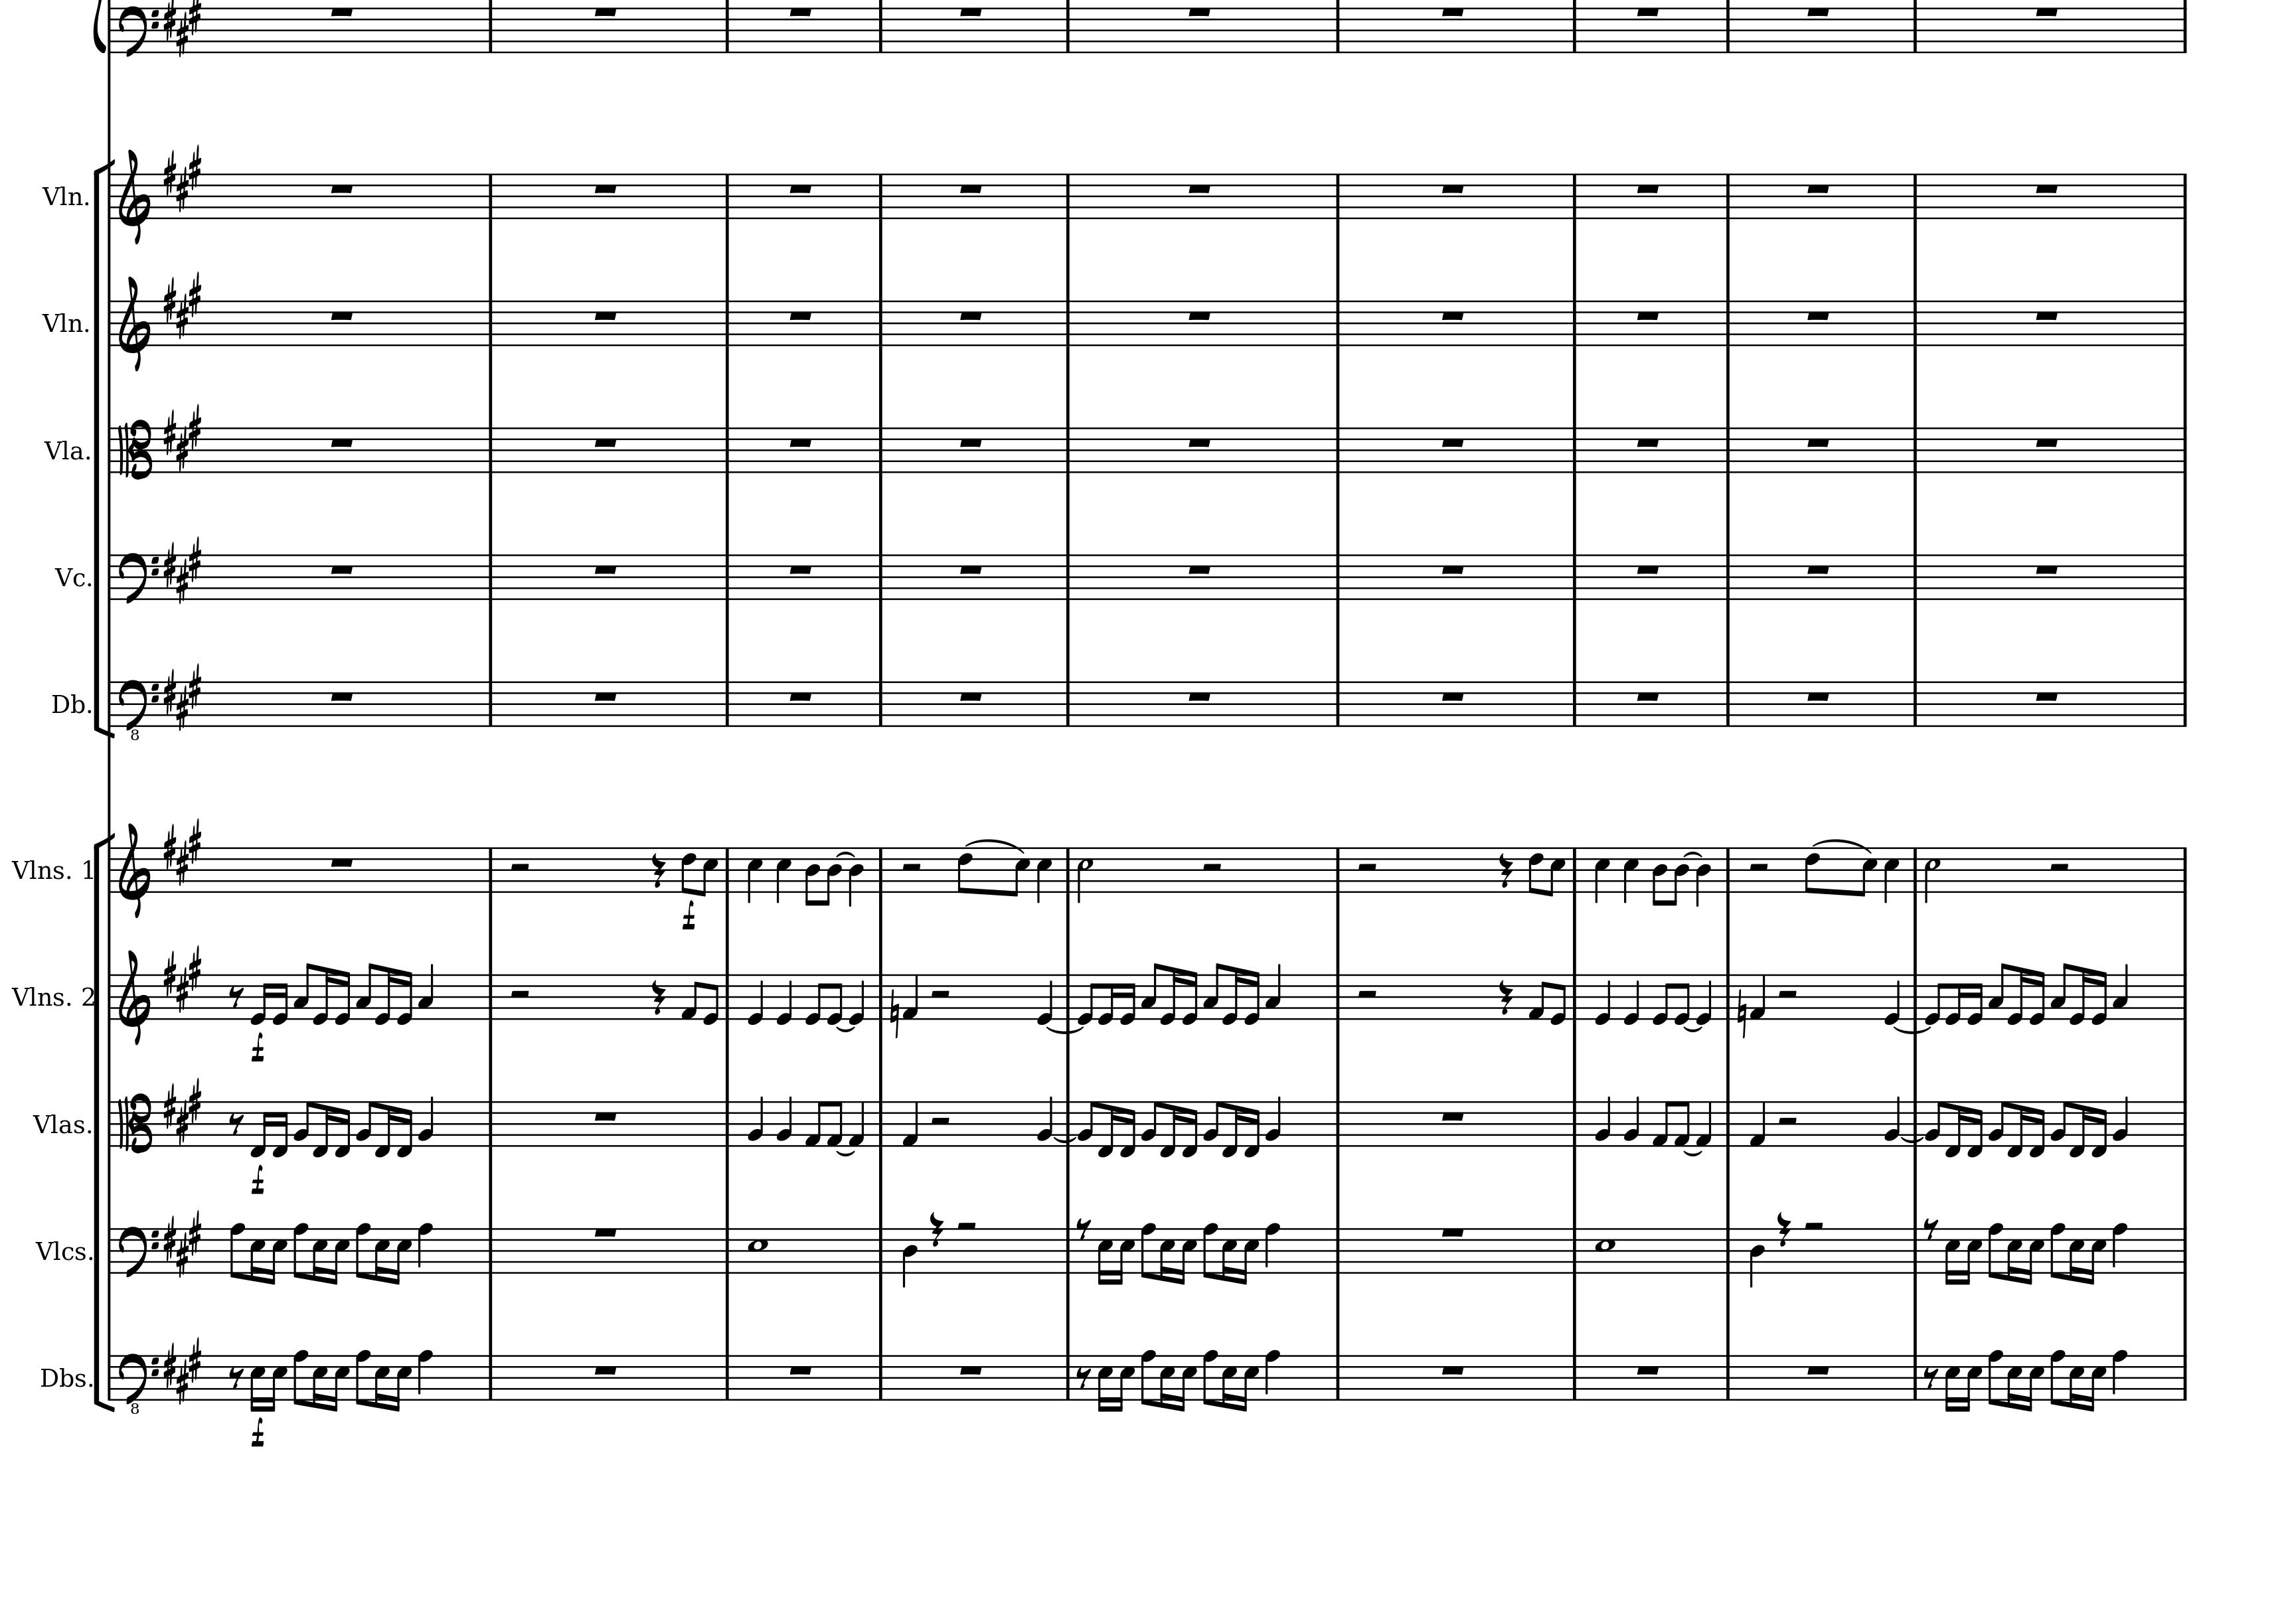16_-1: (2004, 1101, 2047, 1158), (249, 1098, 271, 1159), (332, 1100, 351, 1158), (1096, 1100, 1116, 1158), (1117, 1100, 1137, 1158), (1159, 1100, 1179, 1158), (1221, 1100, 1240, 1158), (1945, 1100, 1964, 1158), (2006, 1100, 2025, 1158), (2027, 1100, 2047, 1158), (2068, 1100, 2087, 1158), (313, 1100, 330, 1158), (374, 1100, 392, 1158), (395, 1100, 413, 1158), (1180, 1100, 1198, 1158), (1242, 1100, 1260, 1158), (1966, 1100, 1983, 1158), (2089, 1100, 2106, 1158), (272, 1100, 288, 1158)
16_0: (374, 964, 393, 1026), (1159, 964, 1179, 1026), (1221, 964, 1240, 1026), (2006, 964, 2025, 1026), (2068, 964, 2087, 1026), (313, 964, 332, 1024), (1924, 971, 1945, 1026), (249, 973, 271, 1026), (395, 968, 413, 1026), (1117, 973, 1137, 1026), (1242, 968, 1260, 1026), (1945, 971, 1964, 1024), (2089, 968, 2106, 1026), (334, 968, 351, 1024), (1180, 968, 1198, 1024), (2027, 968, 2045, 1024), (1098, 971, 1116, 1026), (271, 973, 288, 1026), (1966, 973, 1983, 1026)
16_5: (311, 1228, 346, 1282), (1962, 1226, 1983, 1286), (267, 1226, 288, 1284), (329, 1226, 350, 1284), (1238, 1226, 1260, 1284), (2085, 1226, 2106, 1284), (267, 1354, 288, 1412), (329, 1352, 350, 1410), (392, 1354, 413, 1412), (1962, 1352, 1983, 1410), (2024, 1352, 2045, 1410), (1116, 1226, 1135, 1286), (1177, 1226, 1196, 1284), (2024, 1226, 2043, 1284), (1116, 1354, 1135, 1412), (1177, 1352, 1196, 1410), (1240, 1352, 1260, 1410), (392, 1228, 411, 1284), (2087, 1354, 2106, 1410), (1943, 1226, 1960, 1286), (248, 1354, 265, 1412), (372, 1226, 390, 1282), (372, 1352, 390, 1409), (2068, 1352, 2085, 1409), (1943, 1352, 1959, 1414), (1096, 1226, 1112, 1286), (1096, 1352, 1112, 1412), (311, 1226, 327, 1282), (1221, 1226, 1237, 1282), (2068, 1226, 2083, 1282), (311, 1352, 327, 1409), (1159, 1352, 1175, 1409), (1221, 1352, 1237, 1409), (249, 1226, 265, 1280), (1159, 1226, 1175, 1280), (2006, 1226, 2022, 1280), (2006, 1354, 2022, 1409)
16_8: (1138, 1221, 1156, 1280), (1202, 1221, 1219, 1280), (1202, 1347, 1219, 1407), (1138, 1347, 1156, 1405), (2048, 1347, 2064, 1407), (228, 1221, 244, 1279)
1_5: (1593, 1226, 1616, 1273), (747, 1226, 768, 1273)
2_5: (1924, 845, 1941, 903), (1077, 845, 1093, 903)
4_0: (847, 971, 866, 1026), (1621, 971, 1641, 1026), (747, 971, 764, 1026), (775, 971, 792, 1026), (1035, 971, 1052, 1026), (1695, 971, 1713, 1026), (1593, 973, 1611, 1026), (1883, 973, 1901, 1026)
4_1: (847, 1100, 864, 1147), (901, 1100, 919, 1147), (1695, 1100, 1713, 1147), (1748, 1100, 1765, 1147), (903, 971, 919, 1021), (1750, 971, 1765, 1019)
4_2: (1593, 1093, 1613, 1147), (416, 1093, 434, 1147), (747, 1093, 764, 1147), (775, 1094, 792, 1147), (1036, 1094, 1054, 1147), (1623, 1094, 1641, 1147), (1883, 1094, 1901, 1147), (2112, 1094, 2129, 1147), (1265, 1093, 1281, 1147)
4_3: (416, 961, 434, 1019), (1263, 963, 1281, 1021), (2112, 961, 2129, 1019)
4_4: (1748, 1226, 1765, 1289), (848, 845, 864, 908), (1695, 845, 1711, 908), (901, 1226, 917, 1288)
4_5: (775, 845, 792, 905), (1621, 845, 1639, 903), (747, 845, 762, 905), (1593, 845, 1609, 903), (1883, 845, 1899, 903), (1036, 845, 1051, 903)
4_8: (1263, 1221, 1281, 1273), (1263, 1347, 1281, 1400), (416, 1221, 432, 1273), (416, 1347, 432, 1400), (2112, 1347, 2127, 1400), (2112, 1221, 2127, 1272)
8_0: (1077, 971, 1098, 1026), (1651, 971, 1671, 1026), (805, 971, 824, 1024), (826, 971, 843, 1024), (1672, 971, 1690, 1024), (1549, 973, 1567, 1024), (703, 973, 718, 1026)
8_1: (803, 1098, 824, 1147), (680, 973, 701, 1021), (1527, 973, 1548, 1021), (1651, 1098, 1671, 1147), (1672, 1098, 1690, 1147), (826, 1098, 841, 1147)
8_2: (353, 1100, 376, 1147), (1140, 1100, 1161, 1147), (1202, 1100, 1223, 1147), (2048, 1100, 2069, 1147), (292, 1100, 313, 1145), (1924, 1100, 1945, 1145), (1987, 1100, 2008, 1145), (1077, 1098, 1096, 1147)
8_3: (1138, 961, 1161, 1022), (292, 961, 313, 1022), (1987, 961, 2008, 1022), (355, 961, 376, 1021), (1202, 961, 1223, 1021), (2048, 961, 2069, 1021)
8_4: (822, 845, 841, 906), (1669, 845, 1688, 906), (803, 845, 820, 906), (1651, 845, 1667, 906)
8_5: (1010, 845, 1029, 898), (1546, 845, 1565, 898), (1857, 845, 1876, 898), (699, 845, 718, 896)
8_6: (1527, 845, 1544, 894), (680, 845, 696, 894), (957, 845, 973, 894), (1804, 845, 1820, 894)
8_8: (292, 1221, 309, 1280), (2048, 1221, 2066, 1280), (353, 1347, 371, 1407), (355, 1221, 371, 1280), (1987, 1221, 2003, 1279), (292, 1349, 307, 1405), (1987, 1349, 2003, 1405)
A_S: (160, 402, 206, 472), (162, 660, 206, 732), (162, 532, 204, 606), (160, 141, 204, 211), (160, 269, 204, 339), (160, 815, 204, 885), (162, 1075, 204, 1145), (162, 943, 204, 1012), (162, 1208, 204, 1277), (163, 1335, 204, 1403), (160, 0, 204, 60)
Bracke: (90, 829, 118, 1419), (91, 158, 118, 747)
Cclef: (114, 416, 153, 481), (116, 1091, 153, 1154)
Dbs: (35, 1365, 86, 1391), (49, 690, 86, 715)
Fclef: (118, 550, 160, 604), (118, 4, 158, 60), (118, 1224, 158, 1279)
Gclef: (116, 819, 153, 919), (118, 146, 153, 246), (118, 272, 153, 372), (118, 947, 153, 1047)
Lower_Fclef: (118, 676, 158, 743), (118, 1351, 158, 1414)
Natural: (1736, 987, 1748, 1036), (889, 989, 901, 1036)
Rests1: (327, 4, 357, 19), (592, 4, 620, 19), (1186, 4, 1214, 19), (2032, 4, 2061, 19), (1186, 560, 1214, 576), (2032, 560, 2061, 576), (1439, 1224, 1467, 1240), (592, 1224, 618, 1240), (787, 4, 815, 18), (957, 4, 986, 18), (1439, 4, 1467, 18), (1634, 4, 1662, 18), (1804, 4, 1832, 18), (327, 181, 355, 195), (957, 181, 986, 195), (1186, 181, 1214, 195), (1439, 181, 1467, 195), (1634, 181, 1662, 195), (1804, 181, 1832, 195), (2032, 181, 2061, 195), (592, 307, 620, 321), (787, 307, 815, 321), (957, 307, 986, 321), (1186, 307, 1214, 321), (1439, 307, 1467, 321), (1634, 307, 1662, 321), (1804, 307, 1832, 321), (2032, 307, 2061, 321), (1186, 434, 1214, 448), (2032, 434, 2061, 448), (327, 562, 355, 576), (957, 562, 986, 576), (1439, 562, 1467, 576), (1634, 562, 1662, 576), (327, 689, 355, 703), (592, 689, 620, 703), (957, 689, 986, 703), (1186, 689, 1214, 703), (1439, 689, 1467, 703), (2032, 689, 2061, 703), (1439, 1108, 1467, 1122), (1439, 1361, 1467, 1375), (592, 181, 618, 195), (787, 181, 813, 195), (329, 307, 355, 321), (592, 562, 618, 576), (787, 562, 813, 576), (1804, 562, 1830, 576), (787, 689, 813, 703), (1634, 689, 1660, 703), (1804, 689, 1830, 703), (329, 854, 355, 868), (592, 1108, 618, 1122), (592, 1361, 618, 1375), (787, 1361, 813, 1375), (1634, 1361, 1660, 1375), (1804, 1361, 1830, 1375), (327, 436, 357, 448), (787, 436, 815, 448), (957, 436, 986, 448), (1439, 436, 1467, 448), (1634, 436, 1662, 448), (1804, 436, 1832, 448), (592, 436, 618, 448), (957, 1363, 984, 1375)
Rests2: (899, 859, 924, 875), (1746, 859, 1771, 875), (506, 987, 532, 1001), (1354, 861, 1379, 875), (928, 987, 952, 1001), (1354, 987, 1379, 1001), (928, 1114, 952, 1128), (954, 1219, 978, 1233), (506, 861, 532, 873), (1776, 987, 1799, 1001), (1802, 1217, 1825, 1231), (1200, 861, 1224, 873), (2047, 861, 2071, 873), (1776, 1114, 1799, 1126)
Rests4: (1774, 1210, 1792, 1247), (650, 977, 666, 1017), (650, 850, 666, 889), (1497, 850, 1513, 889), (1497, 978, 1513, 1015), (928, 1210, 943, 1247)
Rests8: (227, 984, 244, 1008), (227, 1110, 244, 1135), (1922, 1215, 1939, 1240), (227, 1365, 244, 1389), (1075, 1215, 1091, 1240), (1075, 1365, 1091, 1389), (1922, 1365, 1938, 1389)
Single_barline: (2177, 4, 2192, 53), (1330, 5, 1346, 53), (1567, 5, 1583, 53), (1908, 973, 1922, 1026), (873, 300, 889, 346), (1330, 300, 1346, 346), (1567, 300, 1583, 346), (1720, 300, 1736, 346), (1908, 300, 1924, 346), (873, 427, 889, 472), (1330, 427, 1346, 472), (1567, 427, 1583, 472), (1908, 427, 1924, 472), (481, 553, 497, 599), (873, 553, 889, 599), (1330, 553, 1346, 599), (1567, 553, 1583, 599), (1720, 553, 1736, 599), (1908, 553, 1924, 599), (1330, 847, 1346, 892), (1330, 973, 1346, 1019), (1330, 174, 1346, 218), (1330, 682, 1346, 725), (483, 5, 497, 53), (720, 5, 734, 53), (873, 5, 887, 53), (1061, 5, 1075, 53), (1720, 5, 1734, 53), (1908, 5, 1922, 53), (2177, 1100, 2191, 1147), (2177, 172, 2191, 218), (483, 300, 497, 346), (720, 300, 734, 346), (1061, 300, 1075, 346), (2177, 300, 2191, 346), (483, 427, 497, 472), (720, 427, 734, 472), (1061, 427, 1075, 472), (1722, 427, 1736, 472), (2177, 427, 2191, 472), (720, 553, 734, 599), (1061, 553, 1075, 599), (2177, 553, 2191, 599), (2177, 680, 2191, 725), (1908, 847, 1922, 892), (483, 847, 497, 892), (873, 847, 887, 892), (483, 973, 497, 1019), (873, 973, 887, 1019), (873, 1101, 887, 1147), (2177, 1354, 2191, 1400), (483, 1354, 497, 1400), (720, 1354, 734, 1400), (873, 1354, 887, 1400), (1330, 1354, 1344, 1400), (1567, 1354, 1581, 1400), (1061, 973, 1073, 1024), (483, 174, 497, 218), (873, 174, 887, 218), (1061, 174, 1075, 218), (1567, 174, 1581, 218), (1908, 174, 1922, 218), (720, 174, 734, 218), (483, 682, 497, 725), (720, 682, 734, 725), (873, 682, 887, 725), (1061, 682, 1075, 725), (1567, 682, 1581, 725), (1722, 682, 1736, 725), (1908, 682, 1922, 725), (483, 1101, 497, 1145), (1330, 1101, 1344, 1145), (720, 1101, 734, 1145), (483, 1228, 497, 1272), (873, 1228, 887, 1272), (1330, 1228, 1344, 1272), (1722, 1228, 1736, 1272), (720, 1228, 734, 1272), (1567, 1228, 1581, 1272), (1908, 1228, 1922, 1272), (104, 682, 116, 729), (104, 553, 116, 599), (1061, 847, 1073, 892), (2178, 847, 2191, 892), (720, 847, 733, 892), (1569, 847, 1581, 892), (1722, 847, 1734, 892), (2178, 973, 2191, 1019), (720, 973, 733, 1019), (1569, 973, 1581, 1019), (1722, 973, 1734, 1019), (1722, 1101, 1734, 1147), (2178, 1228, 2191, 1273), (1722, 1354, 1734, 1400), (1722, 174, 1734, 218), (1569, 1101, 1581, 1145), (1061, 1228, 1073, 1272), (1061, 1354, 1073, 1398), (1910, 1354, 1922, 1398), (105, 4, 116, 54), (1908, 1100, 1920, 1142), (1061, 1101, 1073, 1143), (104, 427, 114, 472), (104, 973, 114, 1019), (104, 1101, 114, 1147), (104, 1354, 114, 1400), (104, 300, 114, 344), (104, 1228, 114, 1272), (105, 172, 114, 218), (105, 847, 114, 892)
Slur: (1811, 836, 1873, 854), (963, 838, 1026, 854), (1045, 1024, 1086, 1033), (1892, 1024, 1932, 1033), (833, 850, 857, 859), (833, 1147, 857, 1156), (1681, 850, 1704, 859), (834, 1024, 857, 1033), (1052, 1135, 1077, 1142), (1681, 1149, 1706, 1156), (1901, 1135, 1924, 1142)
Vc: (51, 560, 90, 590)
Vla: (44, 434, 84, 465), (33, 1108, 72, 1138)
Vlc: (35, 1235, 76, 1266)
Vln: (40, 306, 84, 337), (40, 179, 83, 209), (11, 854, 51, 884), (11, 982, 51, 1010)
f: (249, 1163, 265, 1196), (249, 1416, 265, 1449), (680, 899, 696, 931), (249, 1031, 265, 1063)
